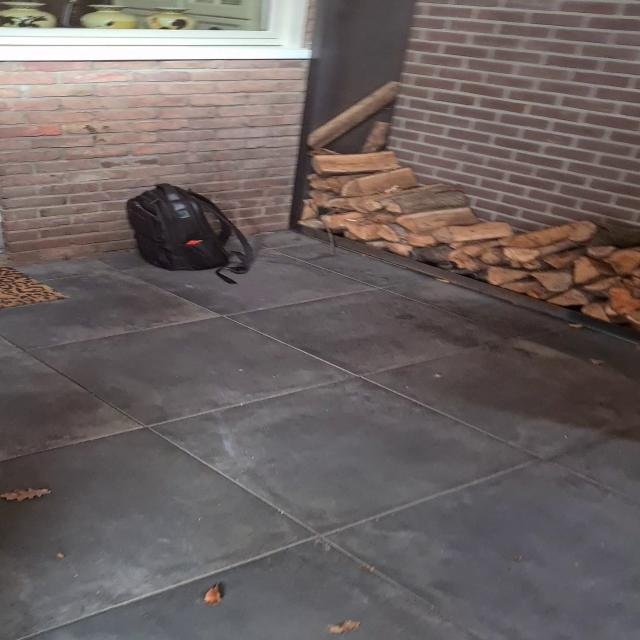backpack: (122, 180, 247, 276)
